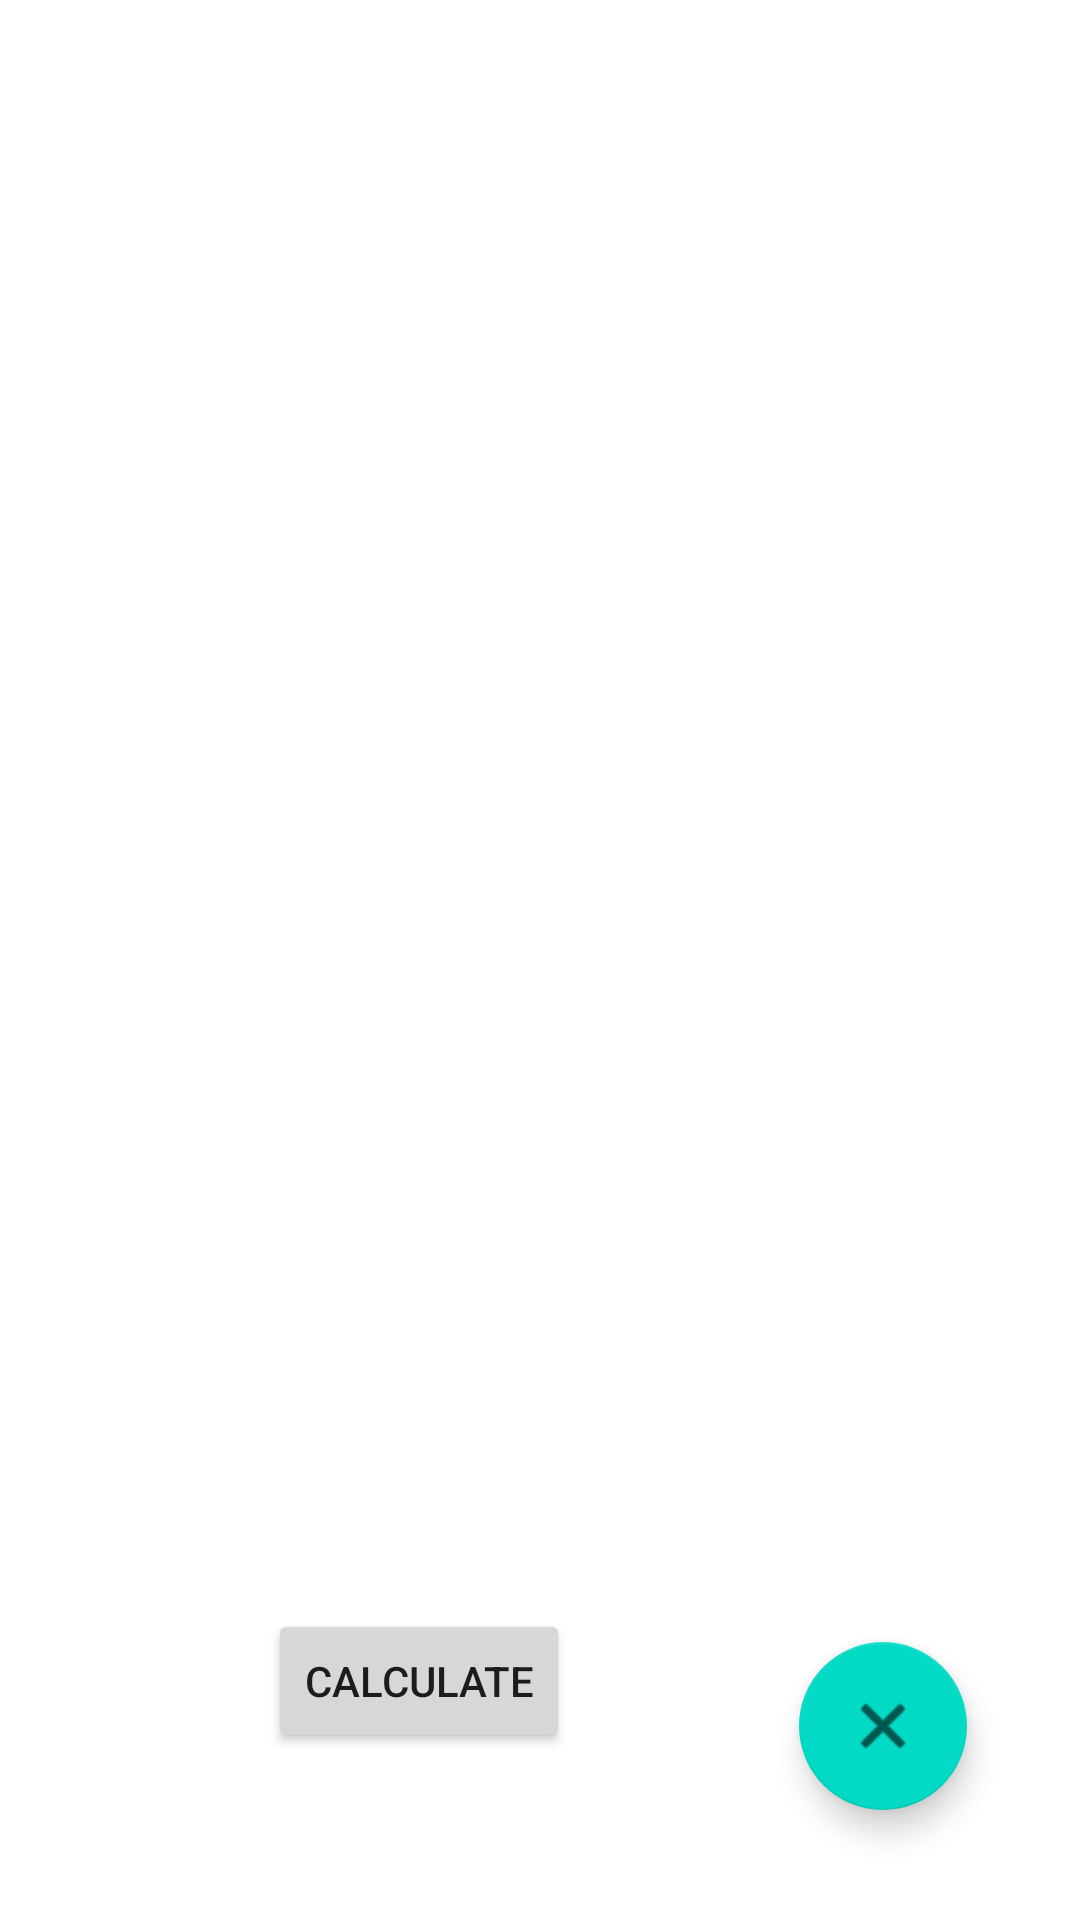

Screen size 1080px×1920px. Icon name, then its center in pixels as [x,y]:
close clear cancel: [883,1726]
